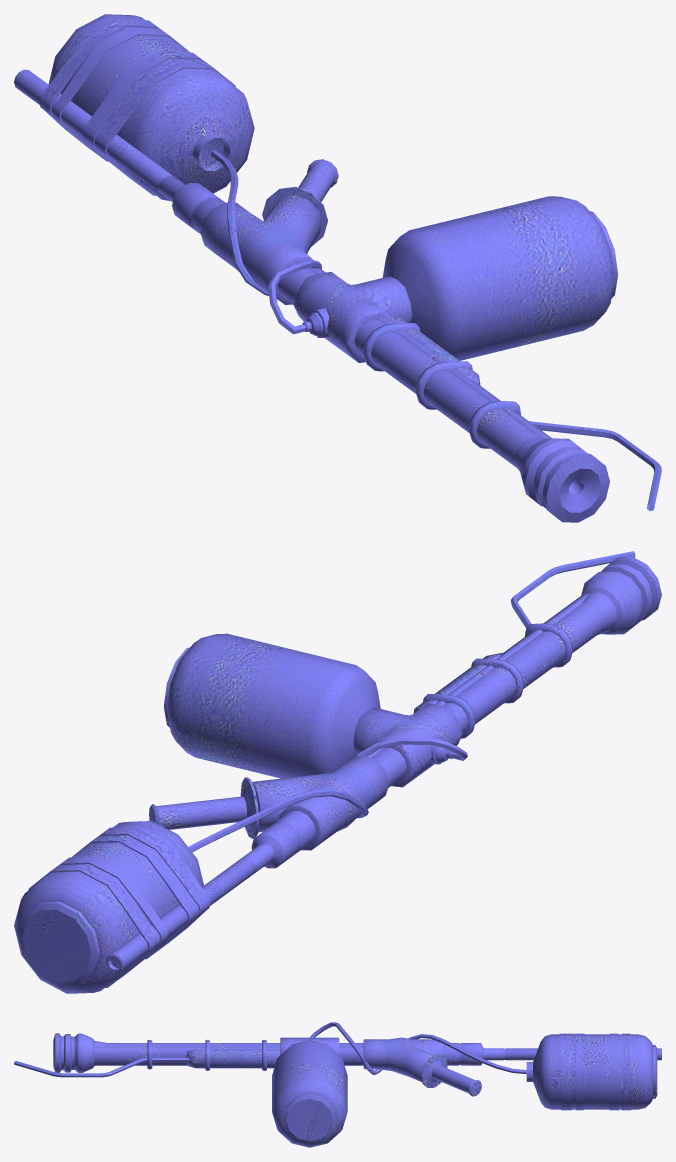
File: Flame_Thrower.glb
The picture shows the model from 3 angles, top to bottom: view 1: azimuth 30°, elevation 25°; view 2: azimuth 150°, elevation 25°; view 3: azimuth 270°, elevation 25°; orthographic projection. The views are drawn at different scales.
Visible parts, largest first — view 1: Flame_Thrower; view 2: Flame_Thrower; view 3: Flame_Thrower.
Boxes of the visible parts, <box> form: Flame_Thrower: <box>14,14,661,522</box>; Flame_Thrower: <box>14,551,661,993</box>; Flame_Thrower: <box>14,1022,661,1147</box>.
Size of the model in its own units: 2.86 by 1.13 by 9.44.
Materials: 1 (1 with a texture image).
